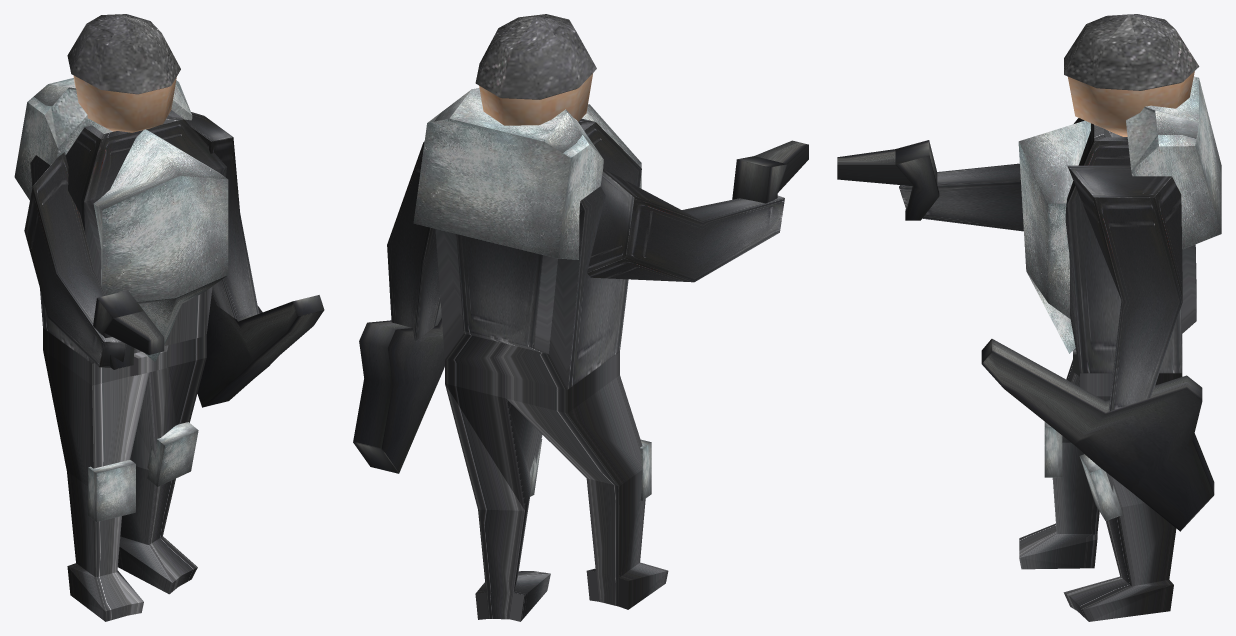
Rendered from gears.FBX.
The picture shows the model from 3 angles, left to right: view 1: azimuth 30°, elevation 25°; view 2: azimuth 150°, elevation 25°; view 3: azimuth 270°, elevation 25°; orthographic projection. The views are drawn at different scales.
Parts seen in each view (by area): view 1: Box001, Box006, Object001, Box008, Object002, Box005, Box002, Sphere001, Box007, Box003, Box004; view 2: Box001, Box005, Object001, Box008, Object002, Box002, Box007, Sphere001, Box003; view 3: Box001, Box008, Box002, Box006, Box005, Object002, Object001, Box007, Sphere001, Box004, Box003.
Part boxes in pixels (x1=…): Box001: x1=30, y1=110, x2=226, y2=621; Box006: x1=93, y1=129, x2=228, y2=361; Object001: x1=24, y1=152, x2=126, y2=367; Box008: x1=197, y1=293, x2=324, y2=407; Object002: x1=67, y1=14, x2=180, y2=94; Box005: x1=14, y1=78, x2=192, y2=200; Box002: x1=185, y1=112, x2=259, y2=318; Sphere001: x1=73, y1=75, x2=176, y2=132; Box007: x1=93, y1=290, x2=164, y2=369; Box003: x1=88, y1=460, x2=135, y2=521; Box004: x1=147, y1=422, x2=198, y2=486; Box001: x1=435, y1=118, x2=668, y2=621; Box005: x1=413, y1=88, x2=603, y2=259; Object001: x1=587, y1=168, x2=784, y2=282; Box008: x1=353, y1=303, x2=444, y2=473; Object002: x1=475, y1=14, x2=596, y2=99; Box002: x1=387, y1=141, x2=440, y2=340; Box007: x1=732, y1=140, x2=808, y2=203; Sphere001: x1=479, y1=73, x2=592, y2=125; Box003: x1=639, y1=439, x2=651, y2=500; Box001: x1=1019, y1=118, x2=1196, y2=621; Box008: x1=981, y1=339, x2=1214, y2=531; Box002: x1=1067, y1=165, x2=1182, y2=411; Box006: x1=1018, y1=120, x2=1090, y2=353; Box005: x1=1126, y1=76, x2=1221, y2=249; Object002: x1=1064, y1=14, x2=1199, y2=90; Object001: x1=899, y1=163, x2=1023, y2=231; Box007: x1=837, y1=140, x2=939, y2=220; Sphere001: x1=1068, y1=71, x2=1194, y2=136; Box004: x1=1079, y1=454, x2=1122, y2=520; Box003: x1=1044, y1=422, x2=1062, y2=477.
Size of the model in its own units: 38.44 by 80.43 by 48.
5 materials, 5 textured.
